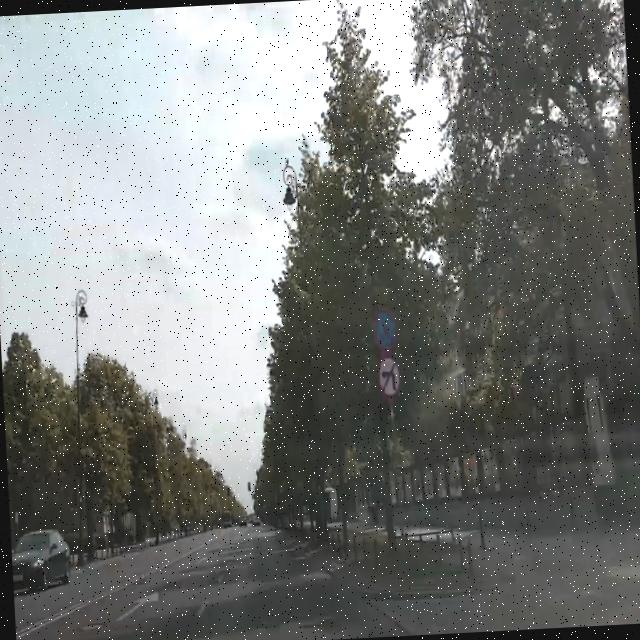Zakaz zatrzymywania sie: (372, 303, 399, 355)
